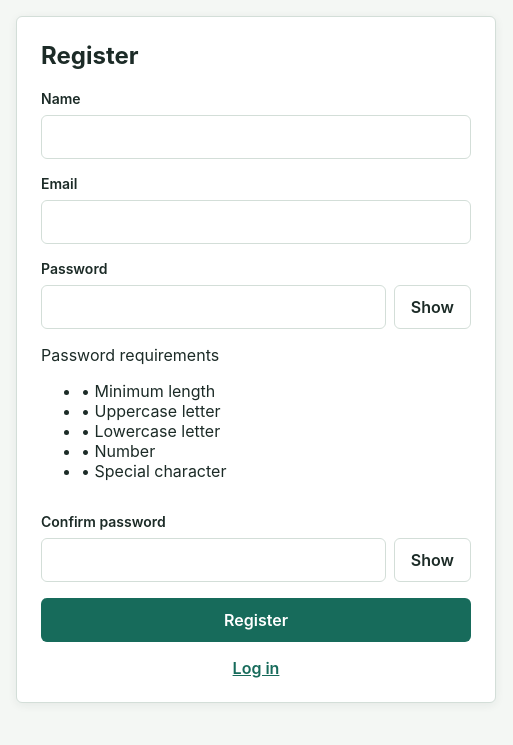
Test: RegistrationPage › rejects mismatched passwords without registering
The image size is (513, 745).
Type "Renter Name" into the field labelled "Name".
click(256, 137); type("Renter Name")  # box 41,115 -> 471,159
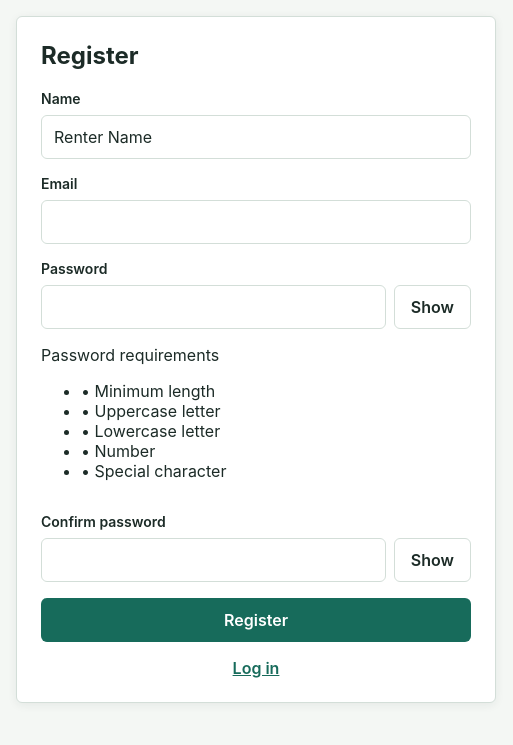
Type "renter@example.com" into the field labelled "Email".
click(256, 222); type("renter@example.com")  # box 41,200 -> 471,244
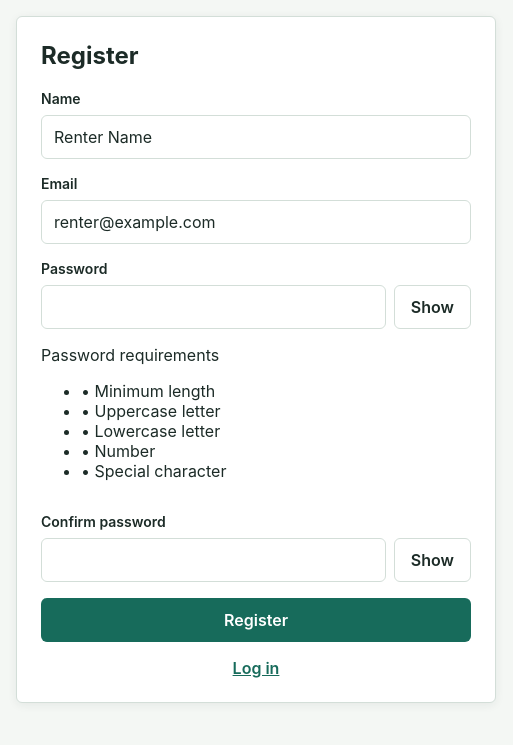
Type "Correct-horse-battery1!" into the password field labelled "Password".
click(213, 307); type("Correct-horse-battery1!")  # box 41,285 -> 386,329
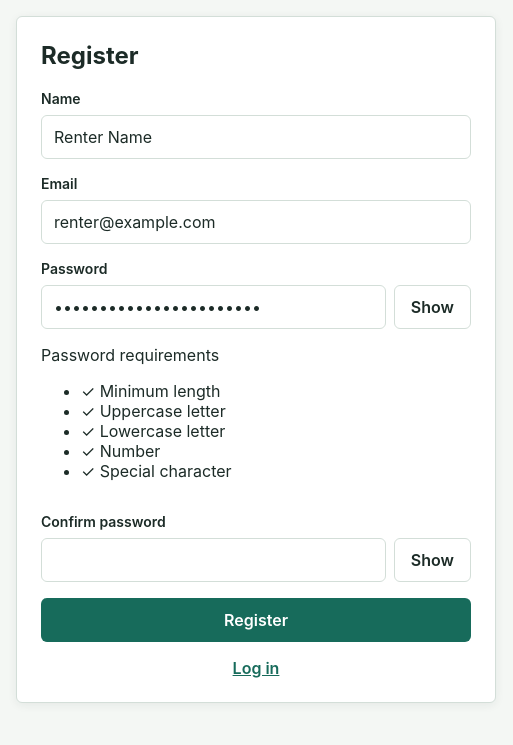
Type "different-password" into the password field labelled "Confirm password".
click(213, 560); type("different-password")  # box 41,538 -> 386,582
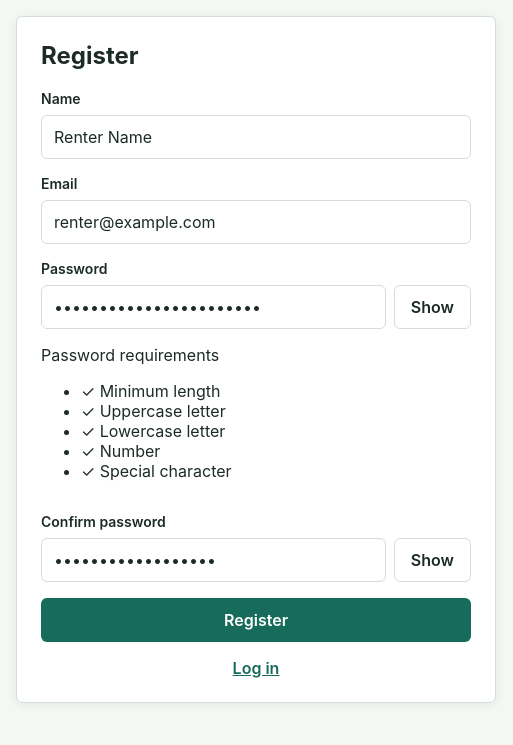
Click the button "Register".
click(256, 620)  # box 41,598 -> 471,642
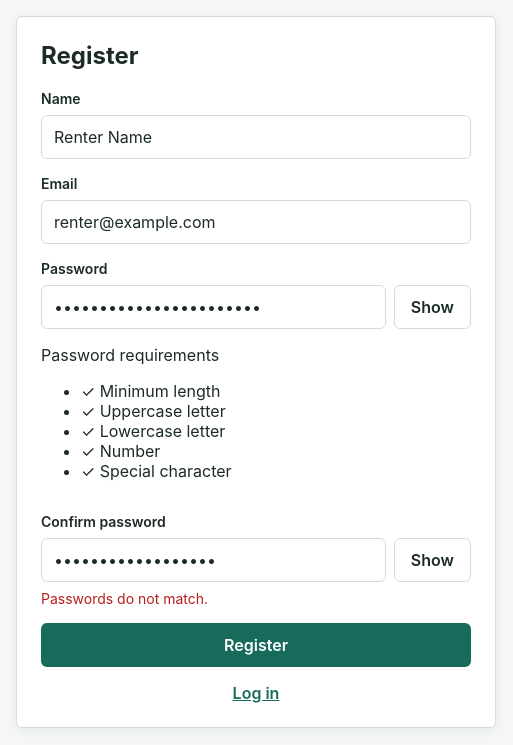
Result: the text "Passwords do not match." is shown at 41,590 -> 208,607
